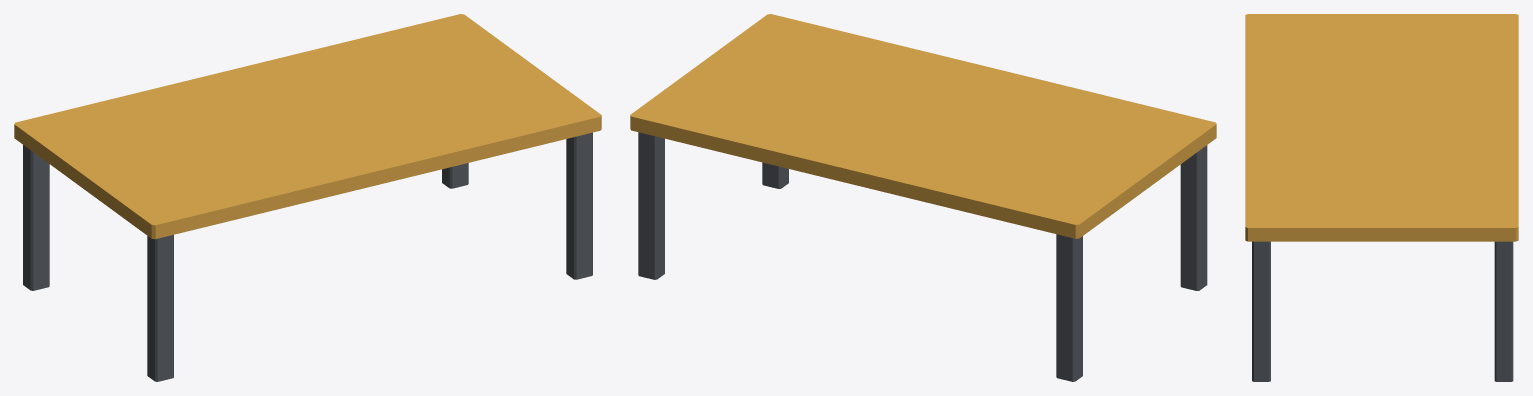
File: SM_Prop_Shop_Table_06.obj
3 renders of one model, left to right at view 1: azimuth 30°, elevation 25°; view 2: azimuth 150°, elevation 25°; view 3: azimuth 270°, elevation 25°, orthographic. The views are drawn at different scales.
Parts seen in each view (by area): view 1: SM_Prop_Shop_Table_06_0; view 2: SM_Prop_Shop_Table_06_0; view 3: SM_Prop_Shop_Table_06_0.
Part boxes in pixels (x1,y1,x2,y2): SM_Prop_Shop_Table_06_0: [14, 14, 601, 381]; SM_Prop_Shop_Table_06_0: [630, 14, 1216, 381]; SM_Prop_Shop_Table_06_0: [1245, 14, 1518, 381].
Bounding box in the file's own units: 2.11 × 0.7194 × 1.14.
Materials: 1 (1 with a texture image).
